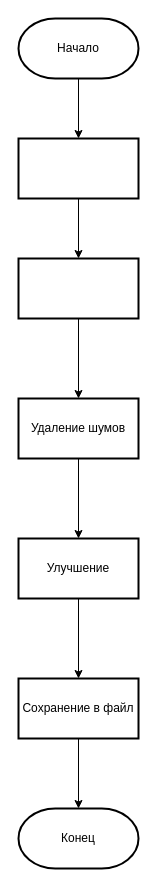
Image size: 156x886. Some labels were removed from this diagram. The centre of each missing label's shape, as x and y in pixels:
"Загрузка изображения в память" goes at (78,168).
"Удаление всех каналов кроме зелёного" goes at (78,288).
